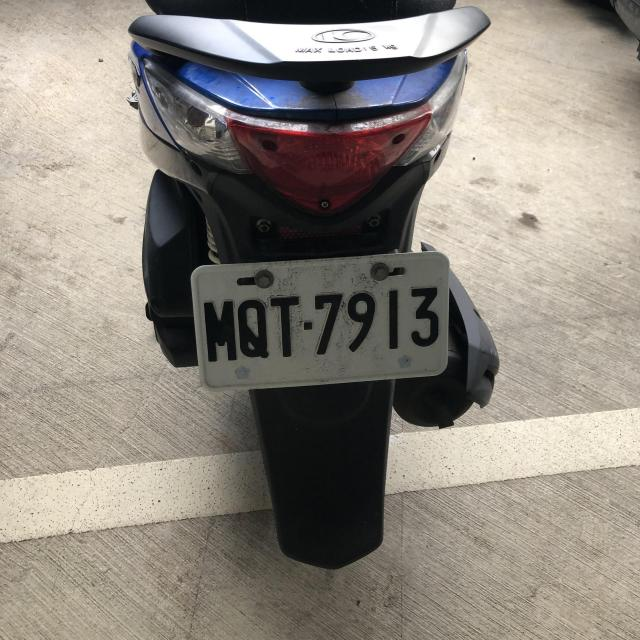W: (188, 252, 449, 391)
